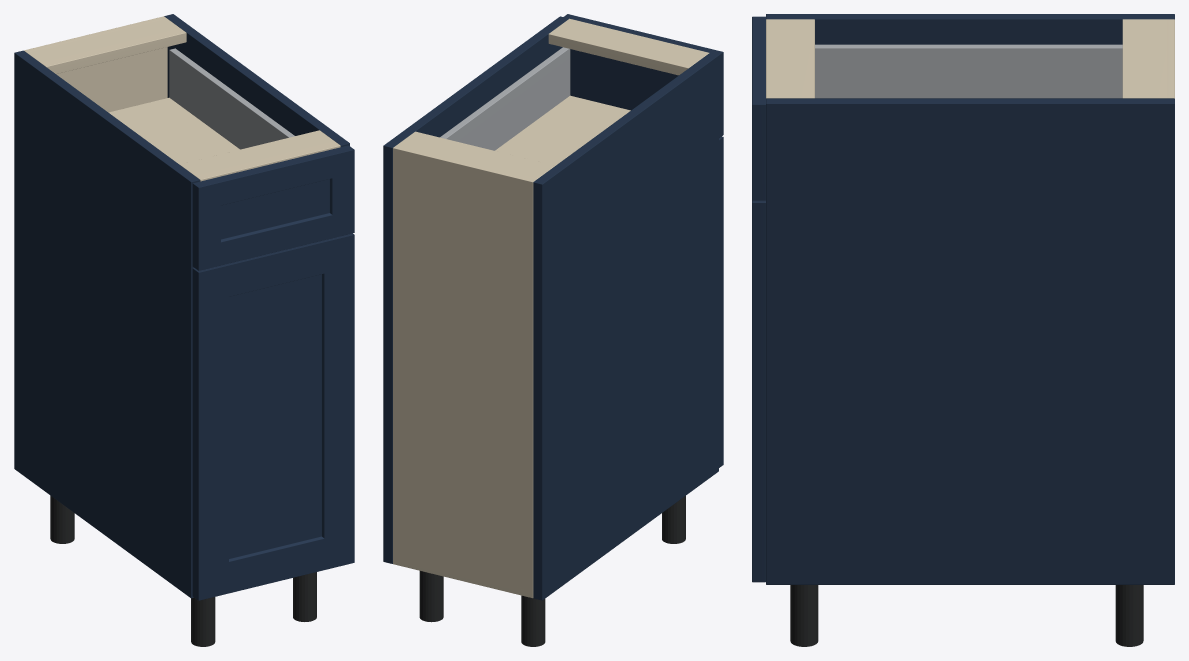
Rendered from oppein-ply-bss-b12.glb.
3 renders of one model, left to right at view 1: azimuth 30°, elevation 25°; view 2: azimuth 150°, elevation 25°; view 3: azimuth 270°, elevation 25°, orthographic. The views are drawn at different scales.
Visible parts, largest first — view 1: Cabinet side, Door, Drawer front, Drawer side.001, Cabinet back, Cabinet side.001, Drawer floor, Top support rail, Top support rail.001, Adjustable foot.001, Adjustable foot.003, Adjustable foot; view 2: Cabinet side, Cabinet back, Cabinet side.001, Drawer side.001, Drawer front, Drawer floor, Top support rail.001, Top support rail, Door, Adjustable foot, Adjustable foot.002, Adjustable foot.001 (+1 smaller); view 3: Cabinet side.001, Drawer side, Cabinet side, Door, Top support rail.001, Top support rail, Drawer front, Adjustable foot.002, Adjustable foot.003, Cabinet back.
Part boxes in pixels (x1,y1,x2,y2): Cabinet side: [14, 50, 200, 598]; Door: [192, 233, 354, 600]; Drawer front: [192, 145, 354, 270]; Drawer side.001: [169, 48, 294, 149]; Cabinet back: [24, 16, 167, 112]; Cabinet side.001: [164, 14, 349, 146]; Drawer floor: [108, 97, 239, 164]; Top support rail: [25, 18, 186, 73]; Top support rail.001: [179, 130, 340, 181]; Adjustable foot.001: [191, 597, 215, 646]; Adjustable foot.003: [293, 572, 316, 621]; Adjustable foot: [50, 495, 74, 543]; Cabinet side: [533, 53, 718, 600]; Cabinet back: [393, 145, 535, 598]; Cabinet side.001: [383, 16, 568, 563]; Drawer side.001: [440, 47, 570, 150]; Drawer front: [563, 14, 723, 137]; Drawer floor: [495, 95, 630, 165]; Top support rail.001: [548, 18, 709, 75]; Top support rail: [396, 131, 554, 179]; Door: [719, 136, 723, 467]; Adjustable foot: [521, 595, 545, 646]; Adjustable foot.002: [419, 571, 443, 622]; Adjustable foot.001: [662, 496, 685, 543]; Cabinet side.001: [766, 98, 1174, 584]; Drawer side: [815, 44, 1122, 98]; Cabinet side: [766, 14, 1174, 44]; Door: [752, 200, 765, 582]; Top support rail.001: [766, 19, 814, 98]; Top support rail: [1122, 19, 1166, 98]; Drawer front: [752, 16, 765, 200]; Adjustable foot.002: [1115, 585, 1143, 646]; Adjustable foot.003: [790, 585, 818, 646]; Cabinet back: [1167, 19, 1174, 98].
Size of the model in its own units: 0.3048 by 0.8763 by 0.6064.
